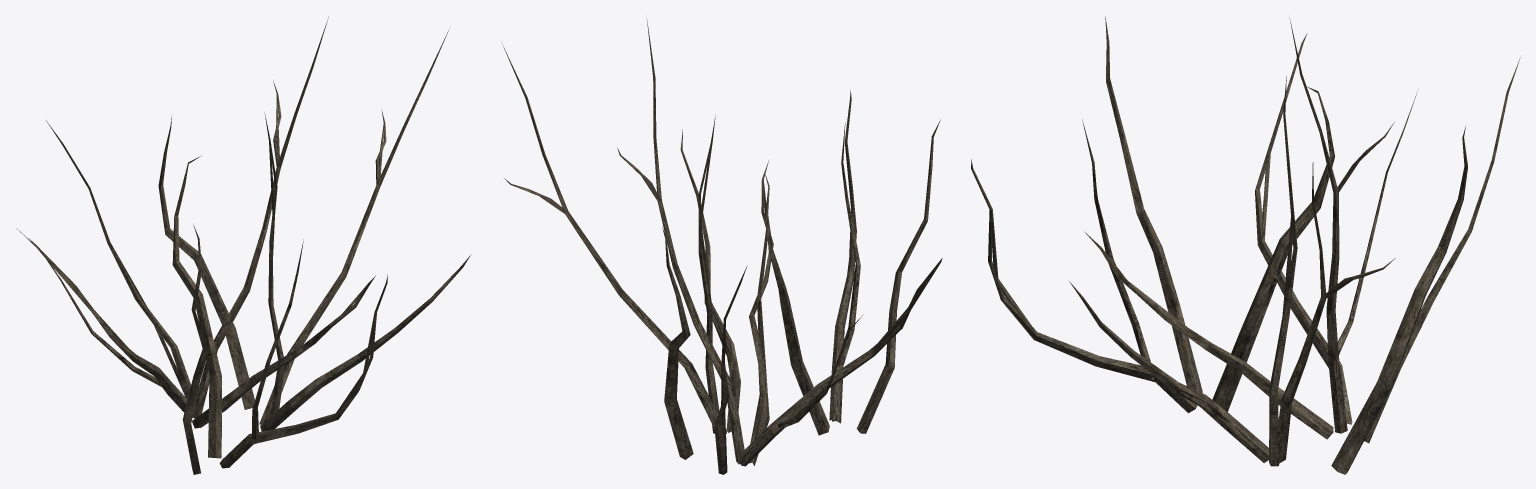
File: 1_BUSH_TRUNK_01_2-transformed.glb
3 views of the same model, side by side, from view 1: azimuth 30°, elevation 25°; view 2: azimuth 150°, elevation 25°; view 3: azimuth 270°, elevation 25° (orthographic). The views are drawn at different scales.
Parts seen in each view (by area): view 1: default; view 2: default; view 3: default.
Boxes of the visible parts, x1,y1,x2,y2 form: default: (16,16,471,474); default: (501,17,942,474); default: (971,16,1520,474).
Size of the model in its own units: 5.86 by 5.25 by 5.29.
Materials: 1 (1 with a texture image).
